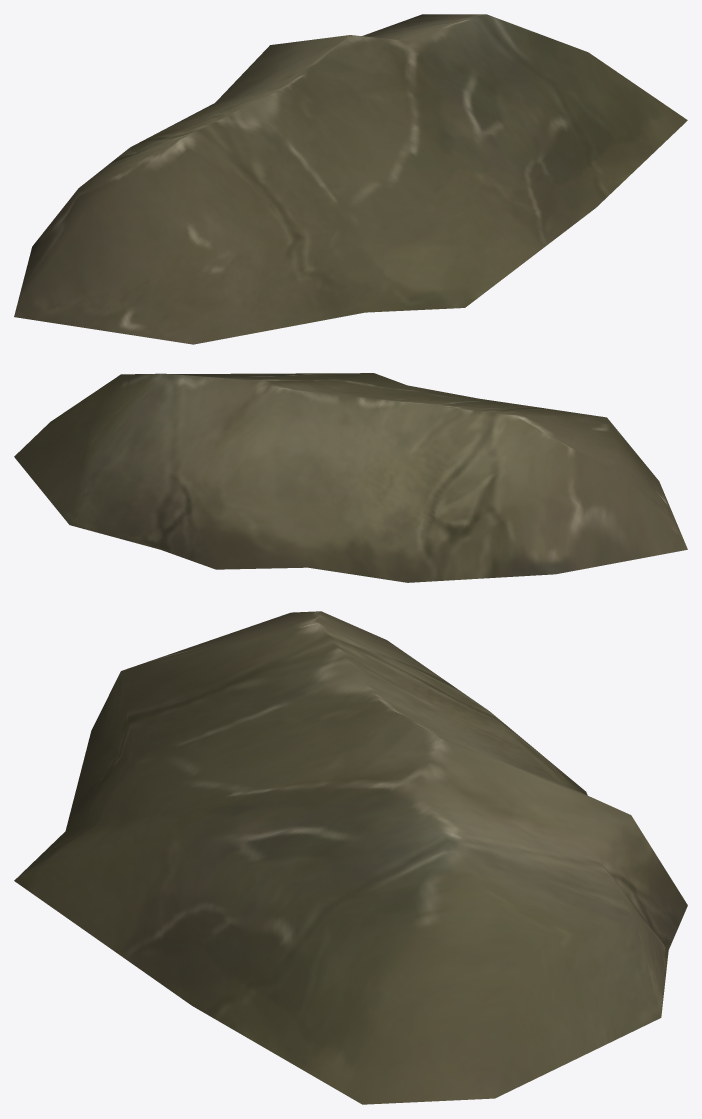
File: rock3.fbx
3 views of the same model, one above another, from view 1: azimuth 30°, elevation 25°; view 2: azimuth 150°, elevation 25°; view 3: azimuth 270°, elevation 25° (orthographic). The views are drawn at different scales.
Visible parts, largest first — view 1: rock3; view 2: rock3; view 3: rock3.
Part boxes in pixels (x1,y1,x2,y2): rock3: [14, 14, 687, 344]; rock3: [14, 373, 687, 582]; rock3: [14, 611, 687, 1104].
Bounding box in the file's own units: 1.11 × 0.2036 × 0.7164.
